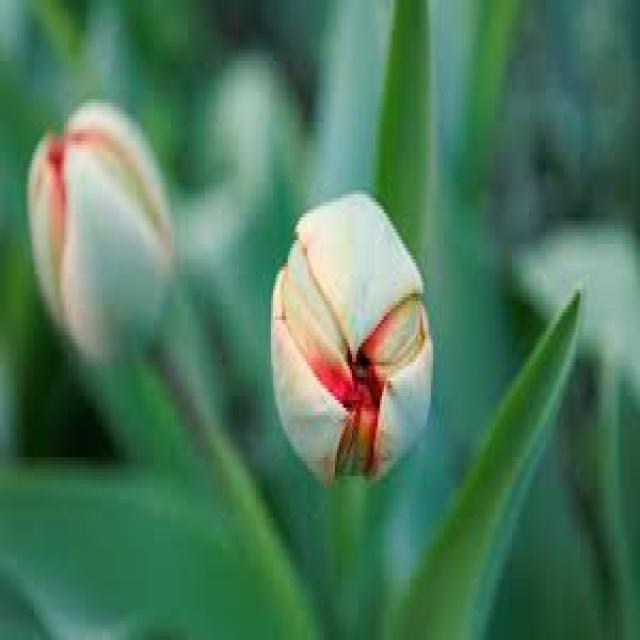Unbloomed: (267, 177, 435, 478)
